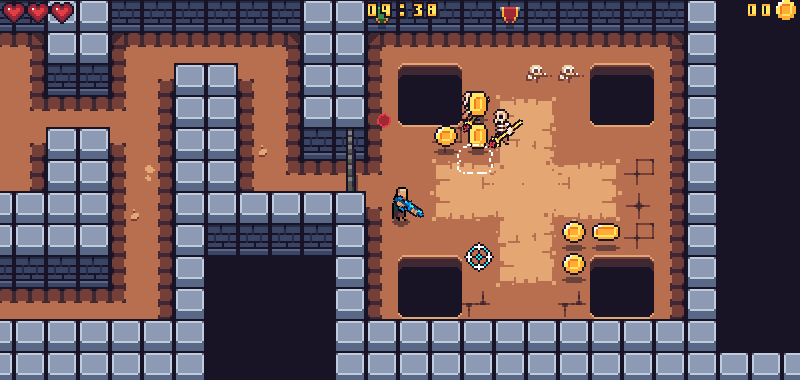enemy_skeleton: (493, 106, 525, 151)
enemy_skeleton_shoot: (374, 111, 393, 127)
gold: (559, 251, 588, 279), (588, 222, 623, 244), (560, 220, 588, 246), (466, 122, 490, 152), (432, 124, 459, 149), (467, 87, 488, 117)
trap_door: (340, 119, 363, 202)
